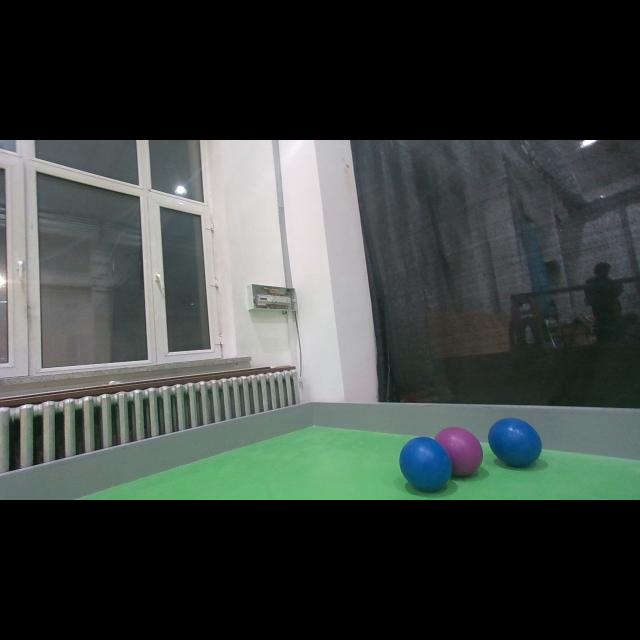B: (400, 438, 452, 492), (488, 418, 542, 468)
P: (435, 427, 483, 477)
